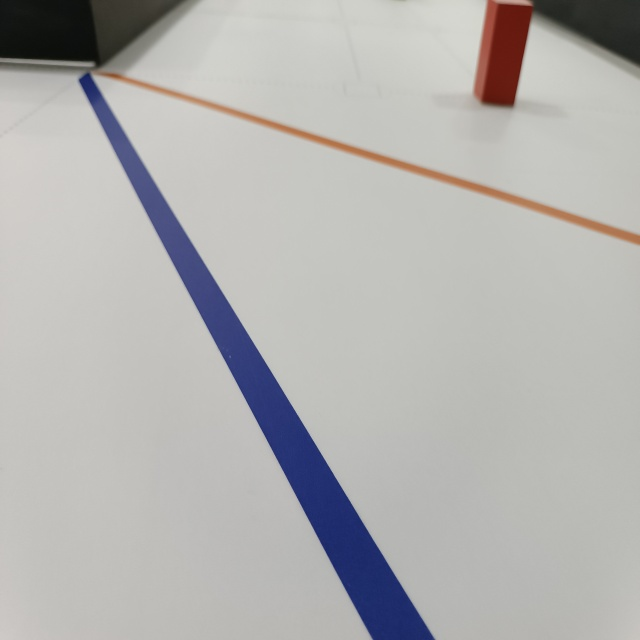blue line: (70, 70, 437, 640)
orange line: (95, 73, 640, 249)
red rectangular prism: (473, 0, 534, 108)
